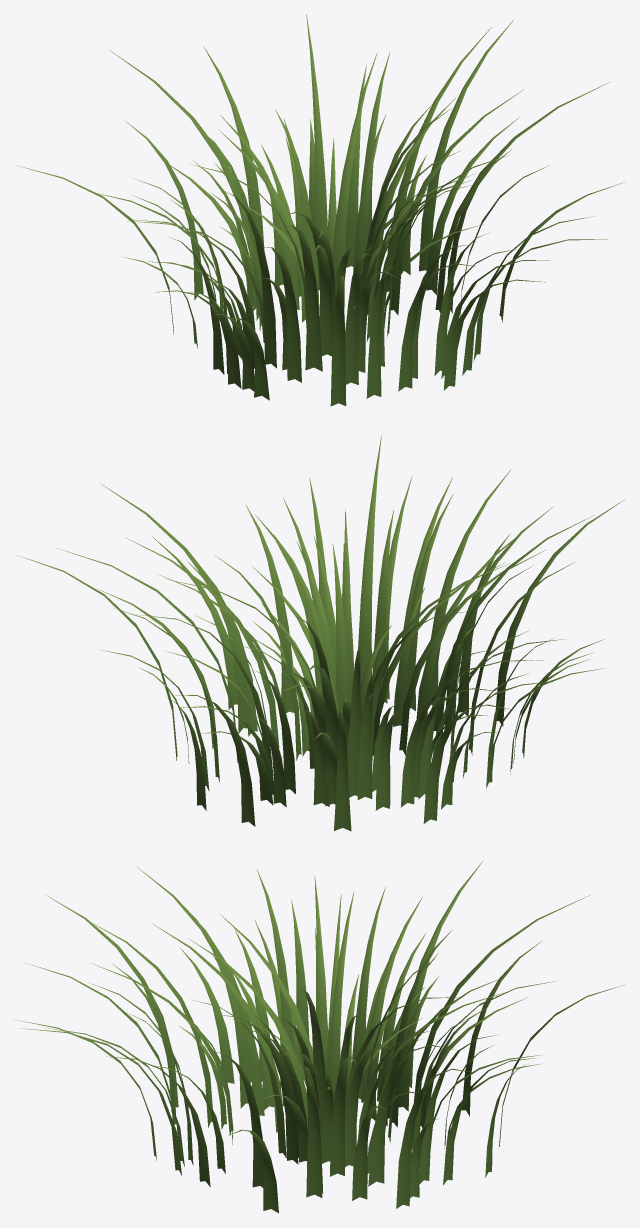
The model's file is Meadow Hairgrass.glb.
3 renders of one model, top to bottom at view 1: azimuth 30°, elevation 25°; view 2: azimuth 150°, elevation 25°; view 3: azimuth 270°, elevation 25°, orthographic. The views are drawn at different scales.
Parts seen in each view (by area): view 1: Meadow Hairgrass; view 2: Meadow Hairgrass; view 3: Meadow Hairgrass.
Boxes of the visible parts, x1,y1,x2,y2 form: Meadow Hairgrass: (16,14,624,406); Meadow Hairgrass: (16,435,625,831); Meadow Hairgrass: (14,860,624,1213).
Size of the model in its own units: 1.14 by 0.4566 by 1.21.
